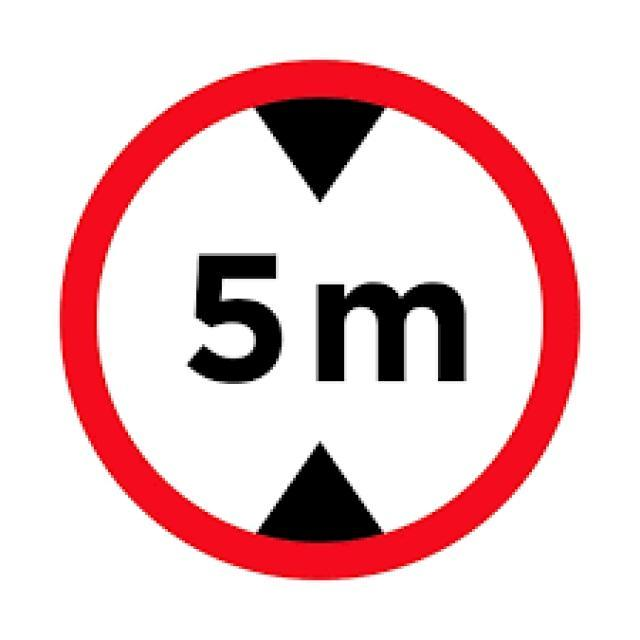height limit: (57, 59, 580, 580)
